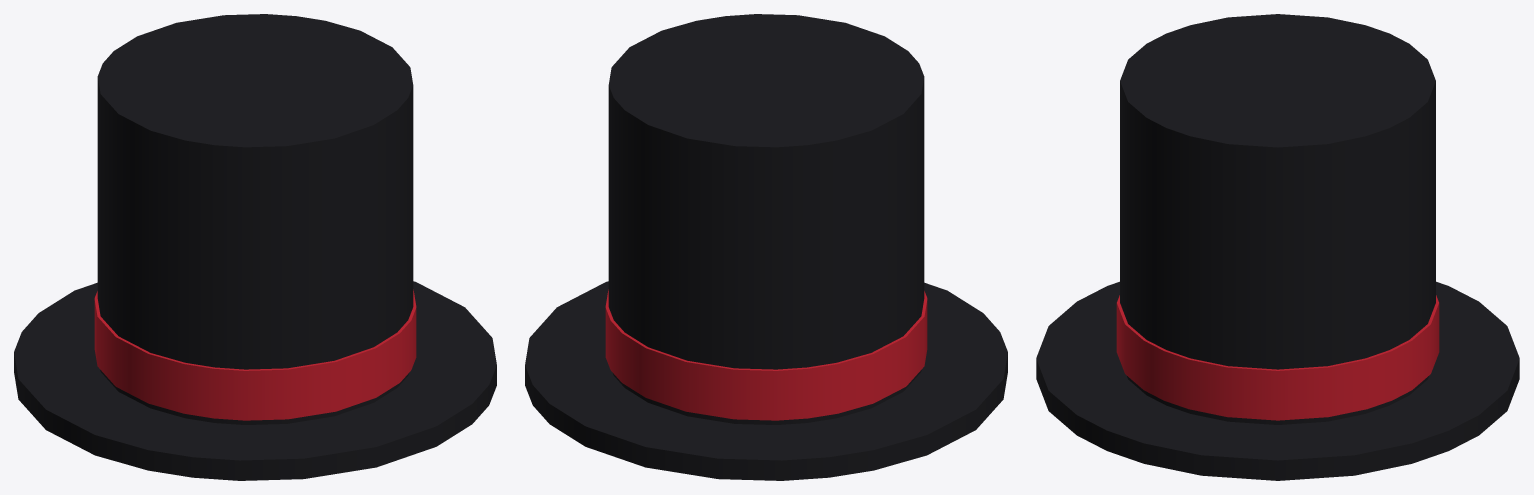
File: top_hat.obj
3 renders of one model, left to right at view 1: azimuth 30°, elevation 25°; view 2: azimuth 150°, elevation 25°; view 3: azimuth 270°, elevation 25°, orthographic.
Parts seen in each view (by area): view 1: Crown, Brim, Band; view 2: Crown, Brim, Band; view 3: Crown, Brim, Band.
Boxes of the visible parts, bbox=[...] form: Crown: bbox=[97, 14, 413, 424]; Brim: bbox=[14, 281, 496, 480]; Band: bbox=[94, 289, 416, 420]; Crown: bbox=[608, 14, 924, 424]; Brim: bbox=[525, 281, 1007, 480]; Band: bbox=[605, 289, 927, 420]; Crown: bbox=[1120, 14, 1435, 424]; Brim: bbox=[1036, 281, 1519, 480]; Band: bbox=[1116, 295, 1439, 420].
Bounding box in the file's own units: 1.5 × 1.02 × 1.5.
